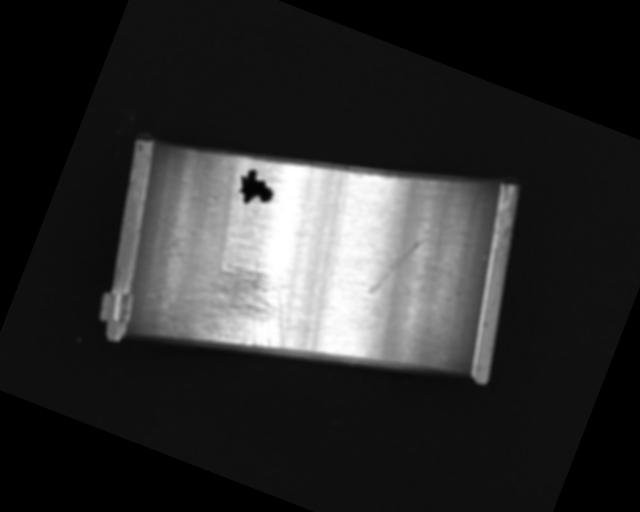blot: (231, 164, 280, 212)
nick: (301, 169, 369, 296), (366, 224, 427, 307)
scratch: (160, 235, 310, 377)
